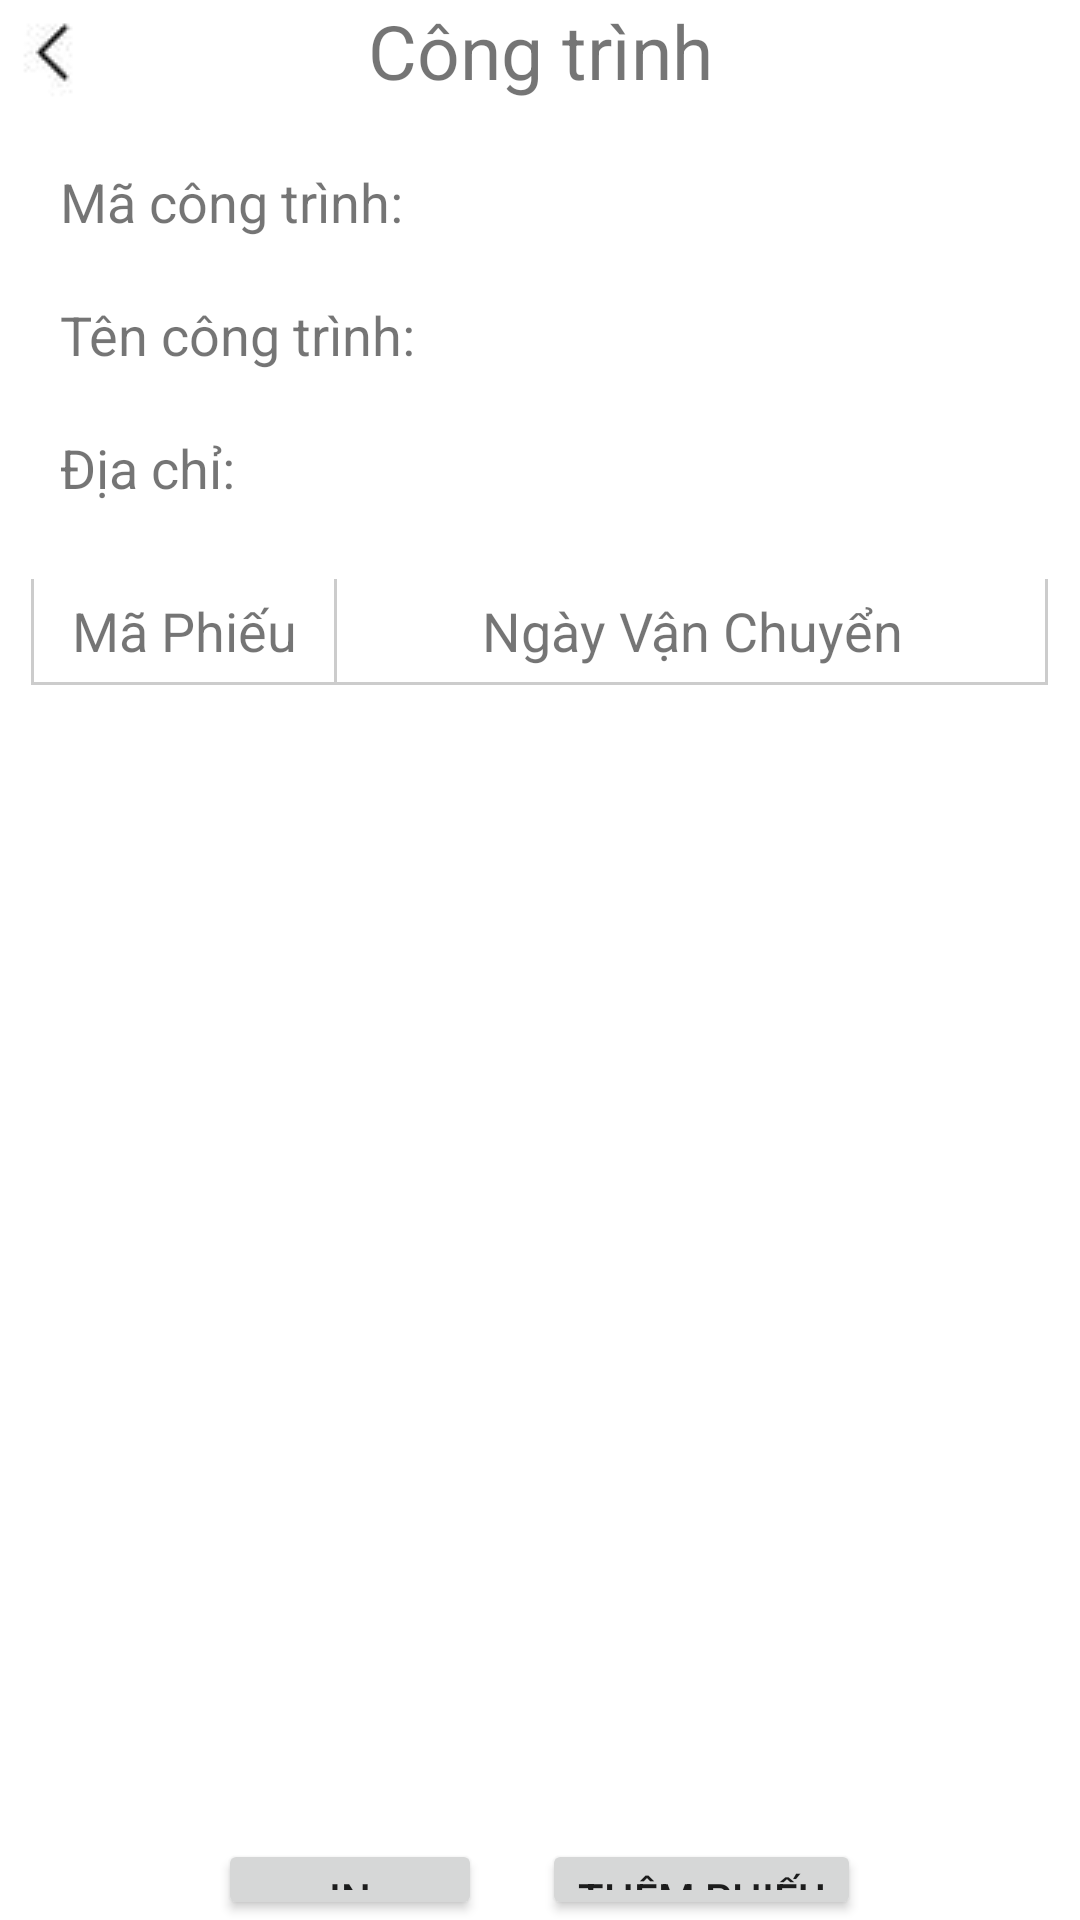

Locate icon controls on the screen. Image size 1080*1920, boxes as box(x1, y1, x2, y2).
back: box(35, 23, 70, 82)
